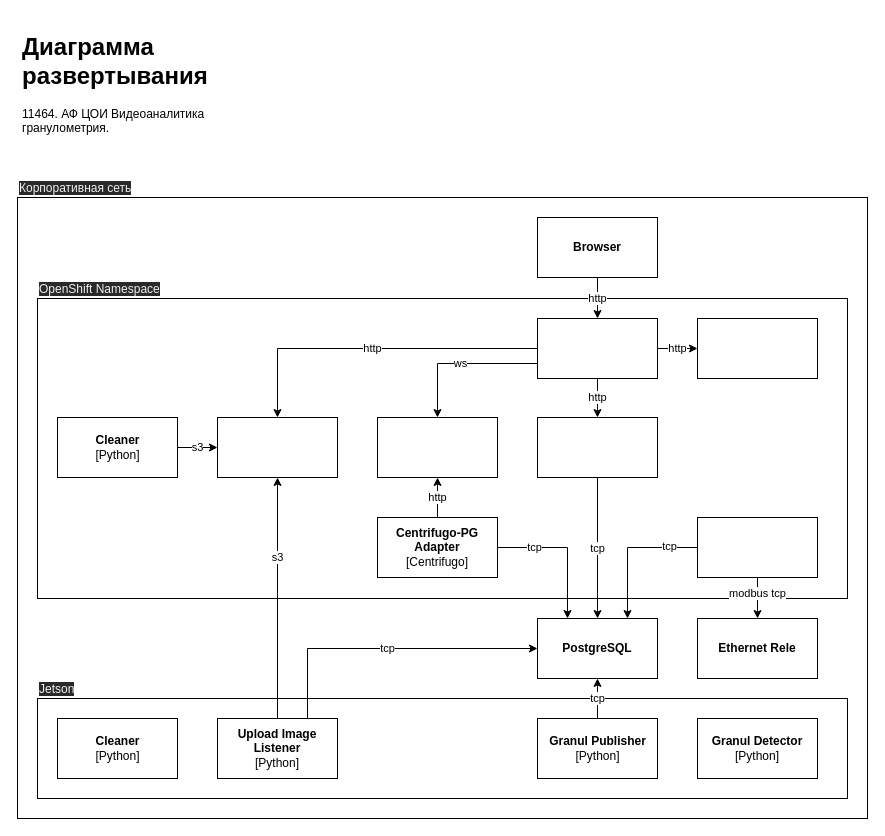
Some shapes in this 885 by 836 pixel diagram are drawn without their labels. Here are the shapes that lost their labels. From the top down, the centre of each, then its label:
the point at 597,348: Ingress
the point at 757,348: Caddy
the point at 277,447: File Storage [Minio]
the point at 437,447: Notifications Server [Centrifugo]
the point at 597,447: API [PostgREST]
the point at 757,547: Alarms Control Listener [Python]
